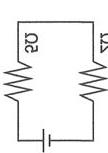resistor: (70, 54, 107, 105), (1, 58, 32, 103)
